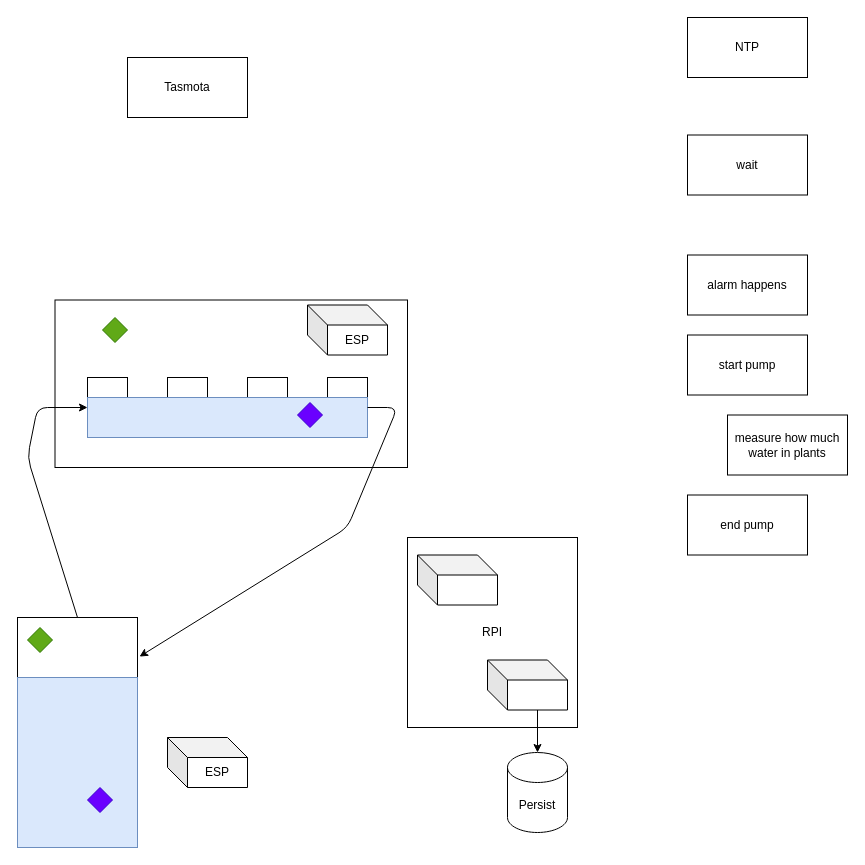
Image size: 865x865. Some labels were removed from this diagram. Each missing label, with the centre of its shape:
"Broker" belongs at [457,579].
"Control" belongs at [527,684].
